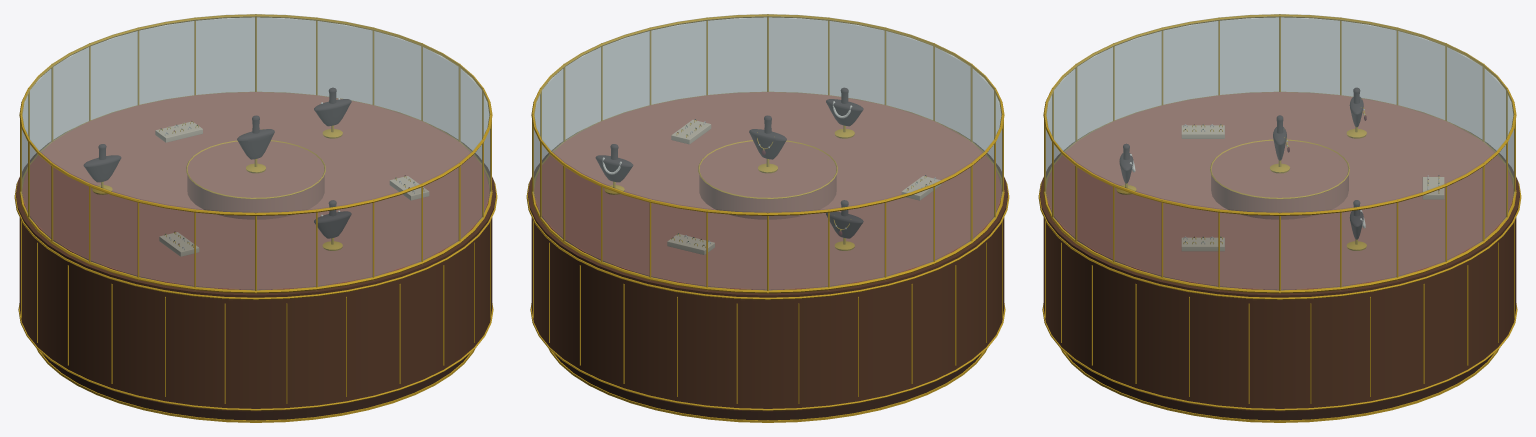
File: prop_display_case_round.glb
The picture shows the model from 3 angles, left to right: view 1: azimuth 30°, elevation 25°; view 2: azimuth 150°, elevation 25°; view 3: azimuth 270°, elevation 25°; orthographic projection.
Parts seen in each view (by area): view 1: Body, Glass, Display; view 2: Body, Glass, Display; view 3: Body, Glass, Display.
Boxes of the visible parts, x1,y1,x2,y2 form: Body: (14,14,497,422); Glass: (21,14,490,290); Display: (83,87,429,256); Body: (526,14,1009,422); Glass: (533,14,1002,290); Display: (595,87,941,254); Body: (1038,14,1521,422); Glass: (1045,14,1514,290); Display: (1116,87,1444,251).
Bounding box in the file's own units: 2.45 × 1.2 × 2.45.
